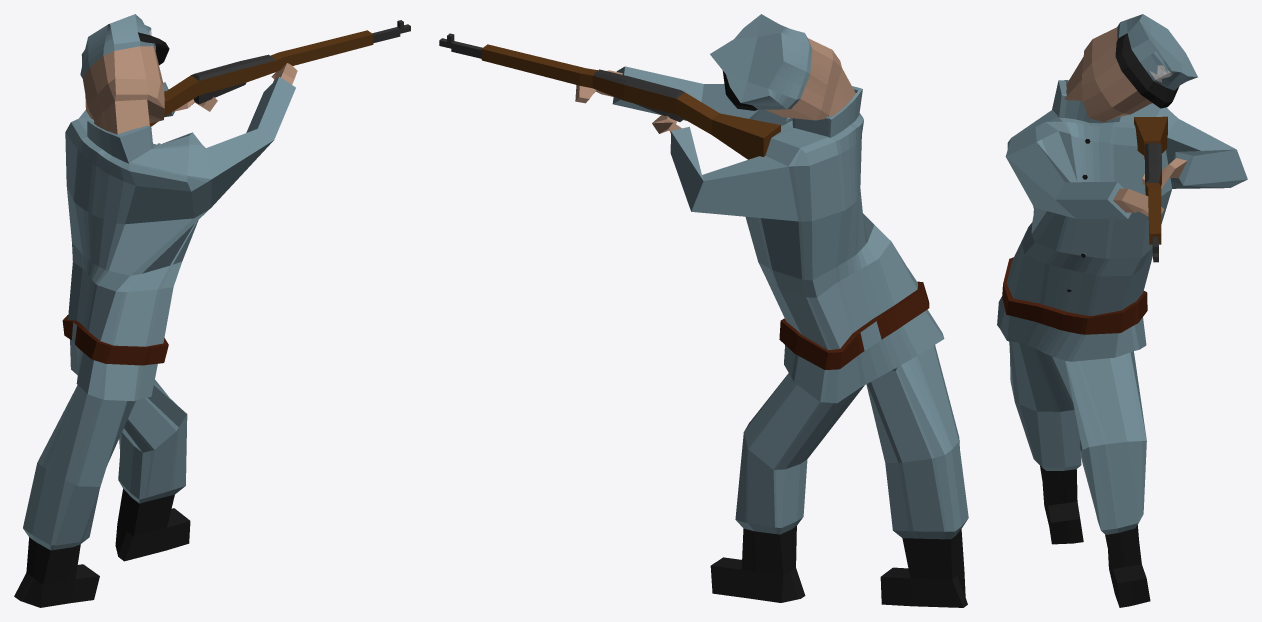
The model's file is ZolnierzPL1.fbx.
3 views of the same model, side by side, from view 1: azimuth 30°, elevation 25°; view 2: azimuth 150°, elevation 25°; view 3: azimuth 270°, elevation 25° (orthographic). The views are drawn at different scales.
Visible parts, largest first — view 1: Sold.000, Mauser; view 2: Sold.000, Mauser; view 3: Sold.000, Mauser.
Boxes of the visible parts, left/top/right/bottom form: Sold.000: left=14, top=14, right=297, bottom=607; Mauser: left=149, top=20, right=410, bottom=126; Sold.000: left=575, top=14, right=968, bottom=607; Mauser: left=439, top=33, right=780, bottom=159; Sold.000: left=997, top=14, right=1247, bottom=607; Mauser: left=1134, top=116, right=1167, bottom=262.
Bounding box in the file's own units: 435 × 513 × 206.
